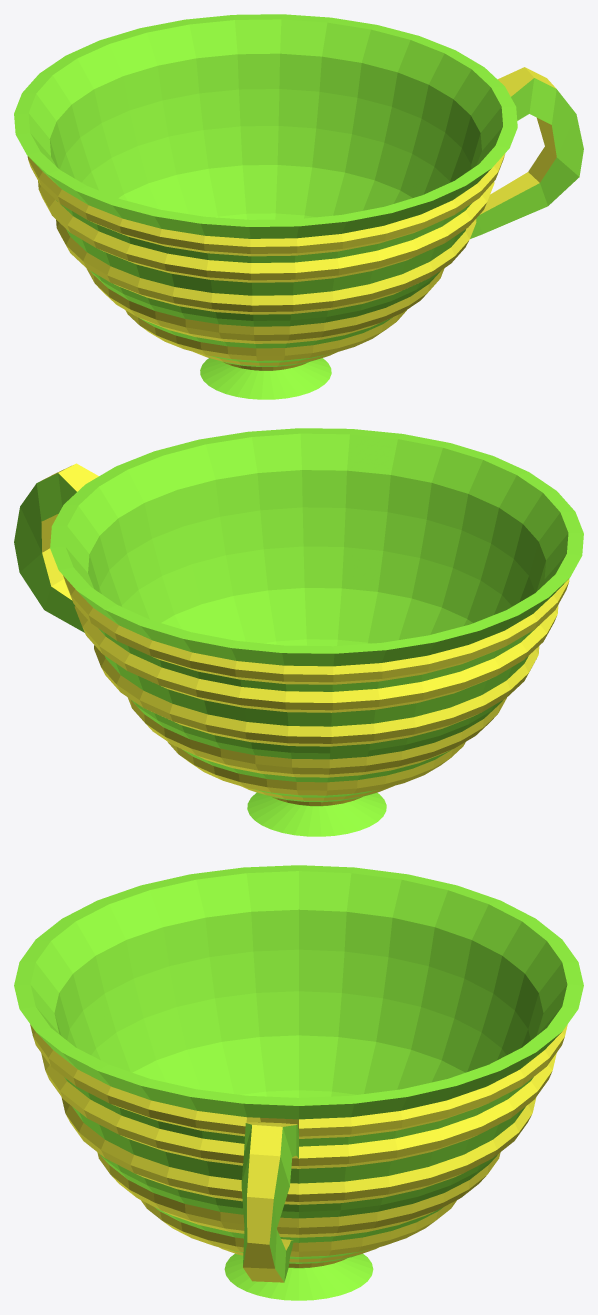
File: teacup.fbx
3 renders of one model, top to bottom at view 1: azimuth 30°, elevation 25°; view 2: azimuth 150°, elevation 25°; view 3: azimuth 270°, elevation 25°, orthographic. The views are drawn at different scales.
Visible parts, largest first — view 1: Cylinder; view 2: Cylinder; view 3: Cylinder.
Boxes of the visible parts, <box> form: Cylinder: <box>14,14,583,399</box>; Cylinder: <box>14,428,583,836</box>; Cylinder: <box>14,865,583,1300</box>.
Size of the model in its own units: 1600 by 745 by 1352.
